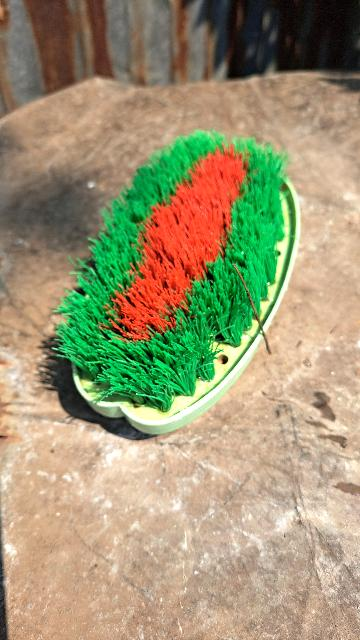hardplastic: (0, 70, 343, 475)
